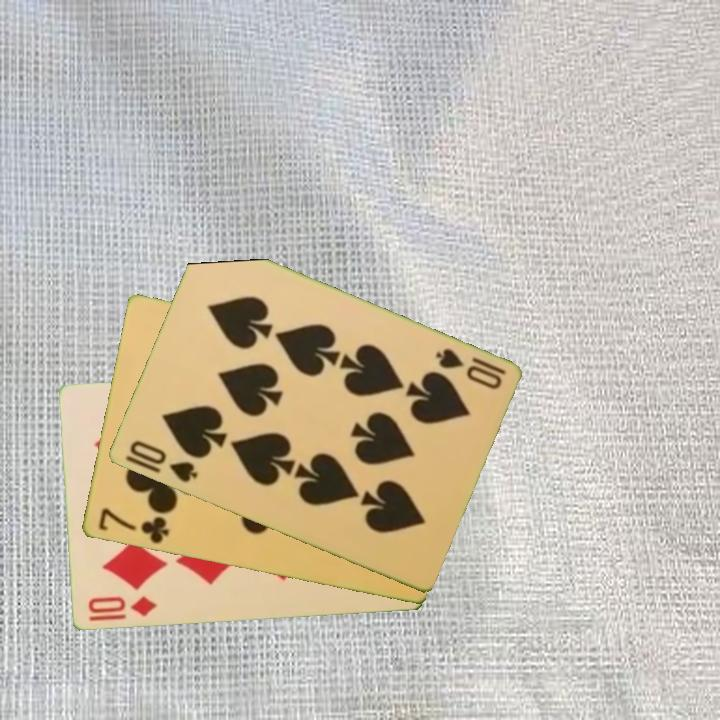10d: (84, 593, 160, 625)
10s: (431, 344, 509, 393), (125, 437, 200, 486)
7c: (94, 505, 172, 547)
